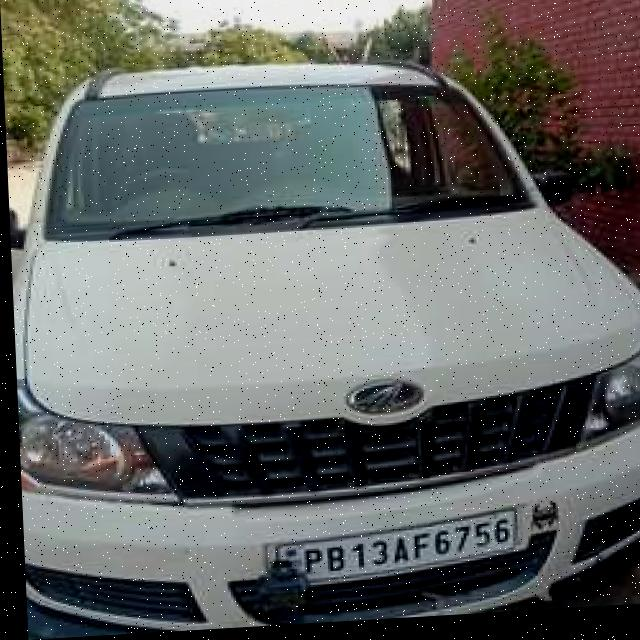plate: (267, 509, 517, 589)
